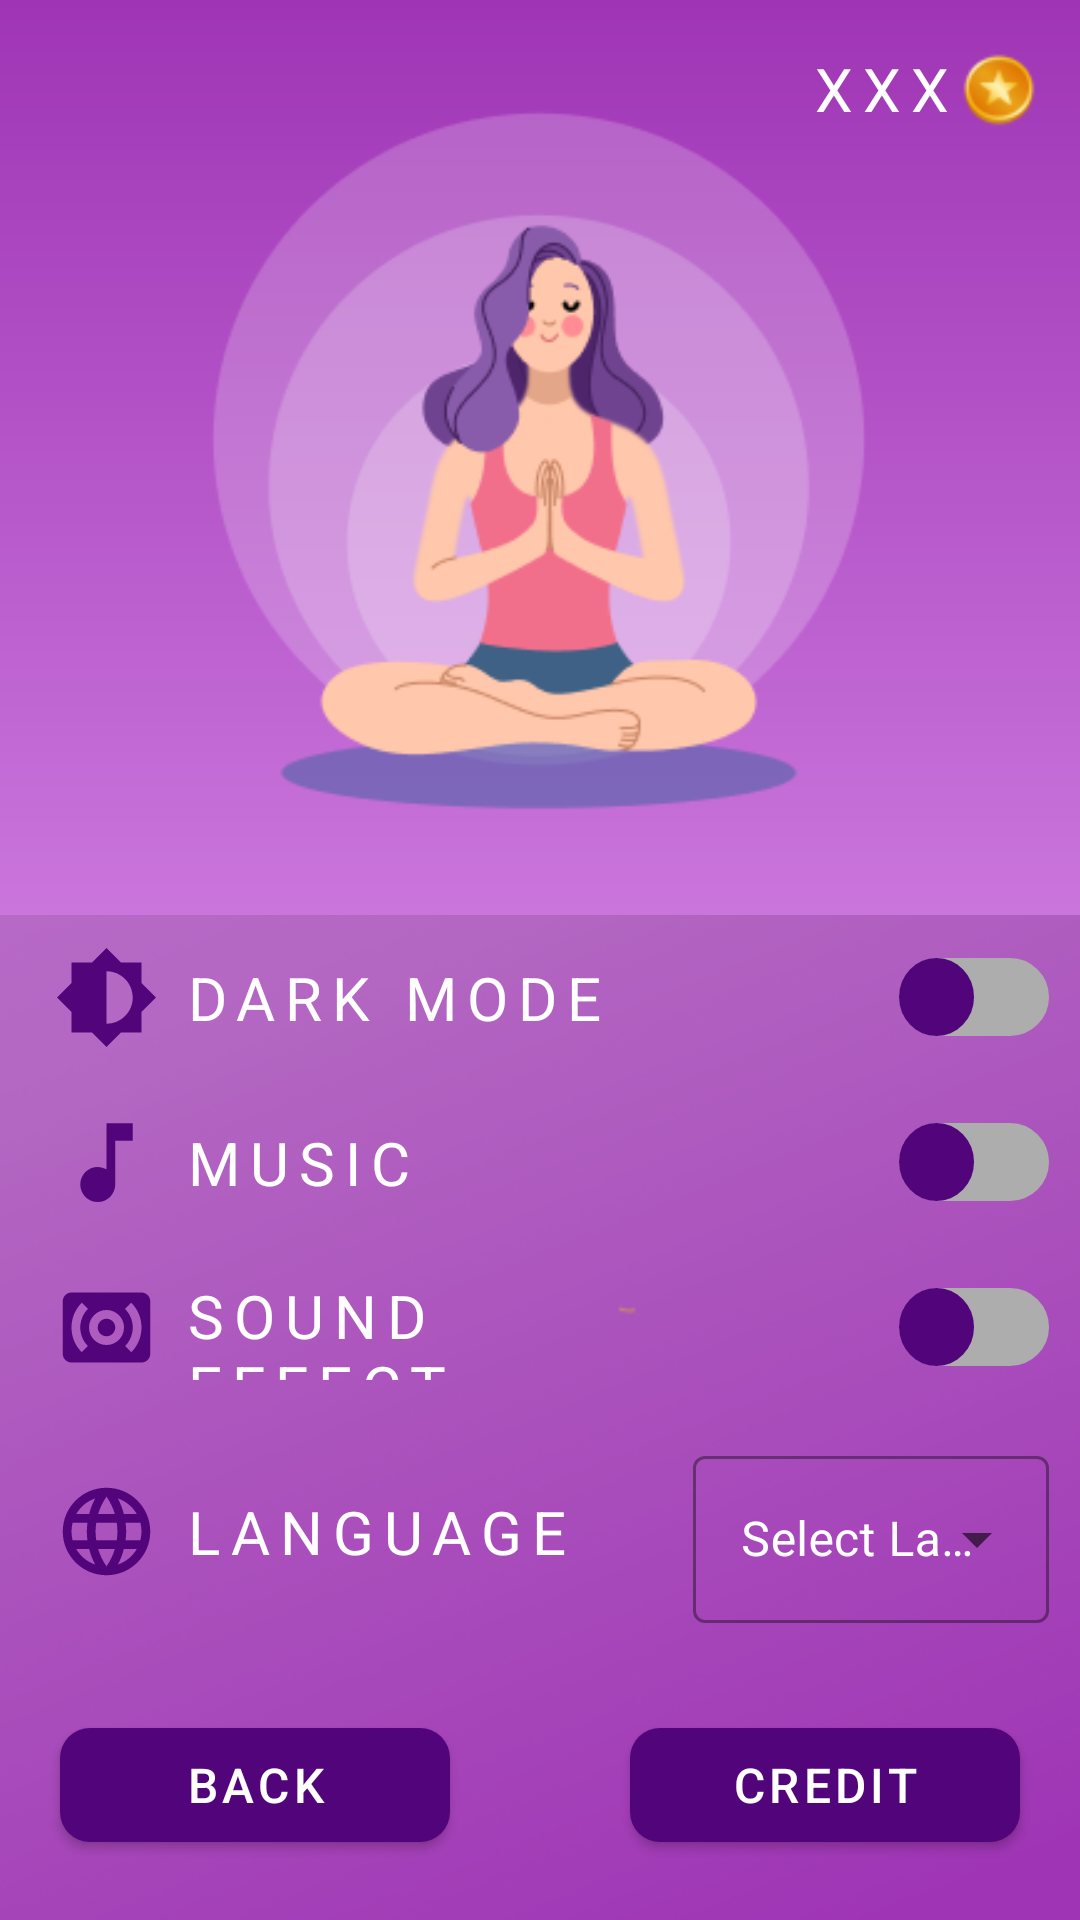

Named icons in this screenshot (1080*1920) and their bounding boxes, (x1, y1, x2, y2):
brightness medium: (57, 948, 156, 1047)
coins: (964, 55, 1034, 125)
surround sound: (63, 1292, 150, 1363)
